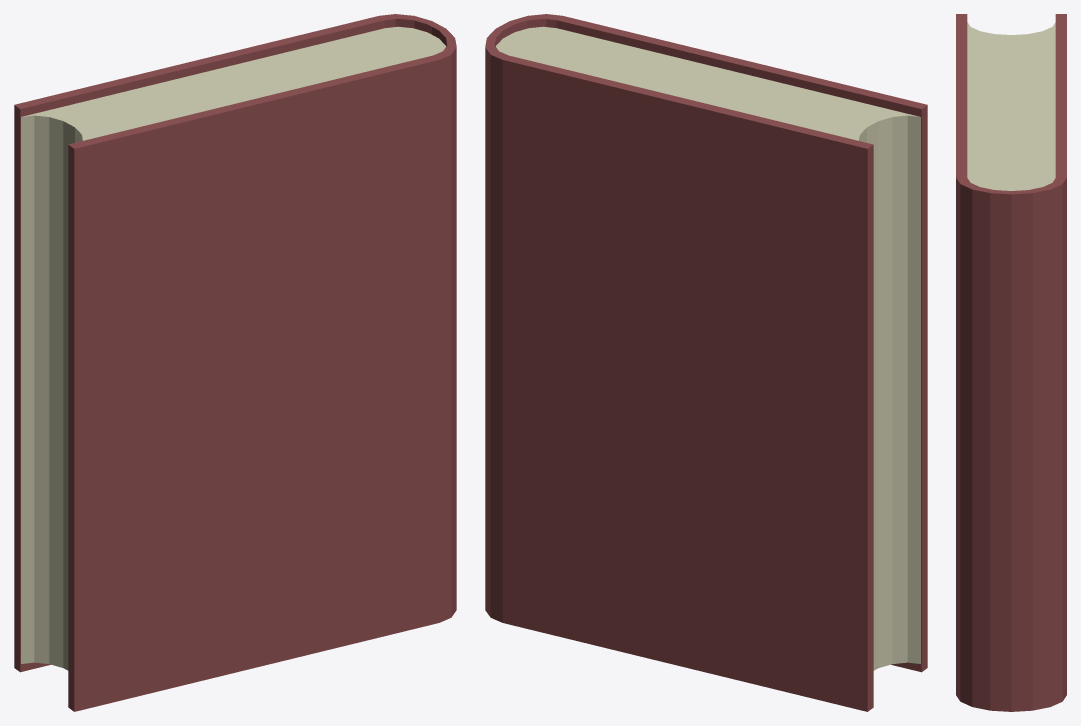
File: book-model.dae
The picture shows the model from 3 angles, left to right: view 1: azimuth 30°, elevation 25°; view 2: azimuth 150°, elevation 25°; view 3: azimuth 270°, elevation 25°; orthographic projection. The views are drawn at different scales.
Parts seen in each view (by area): view 1: Layer_11zb; view 2: Layer_11zb; view 3: Layer_11zb.
Boxes of the visible parts, x1,y1,x2,y2 form: Layer_11zb: [14, 14, 456, 711]; Layer_11zb: [485, 14, 927, 711]; Layer_11zb: [956, 14, 1066, 711].
Size of the model in its own units: 7.47 by 1.94 by 10.
